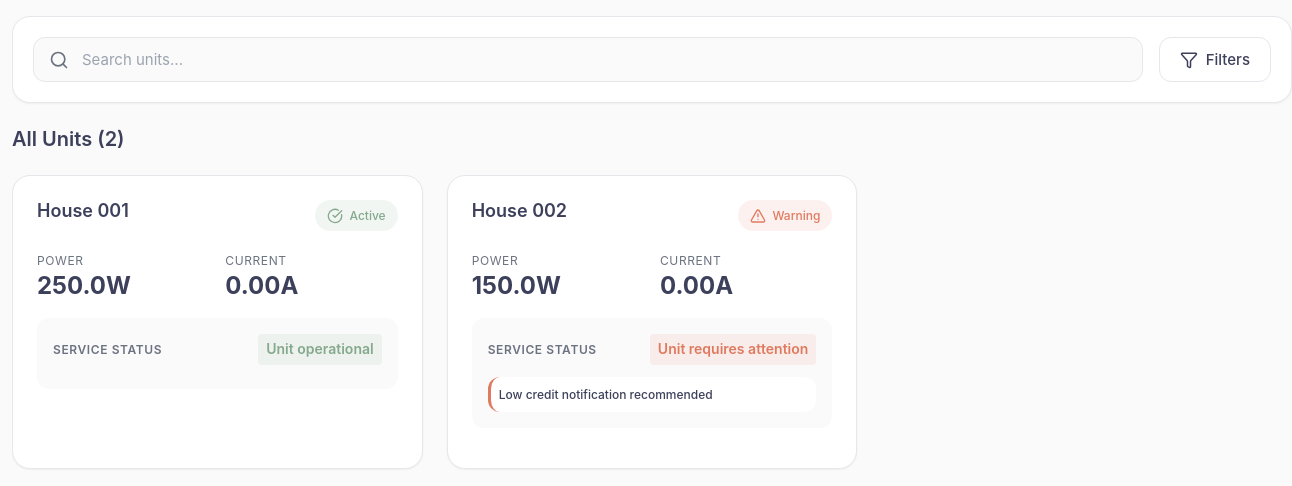
Scenario: UnitsView Page › filters units by search
Type "001" into the field with placeholder "Search units..." at (588, 60), box [33,37,1143,82]
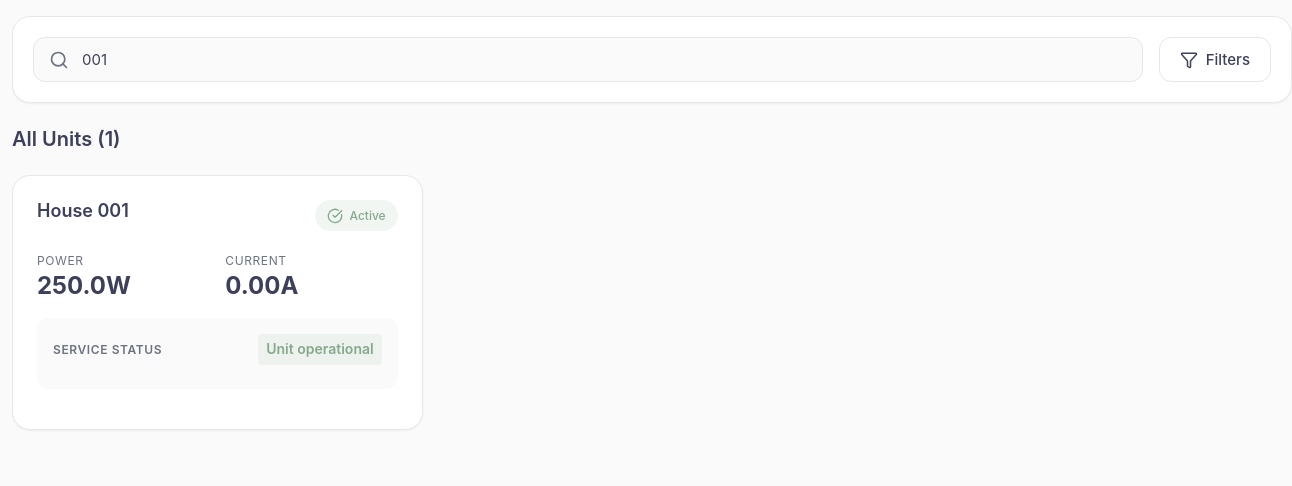
Expected: the heading "House 001" is shown, [37,200,129,221]
Now the heading "House 002" is gone
